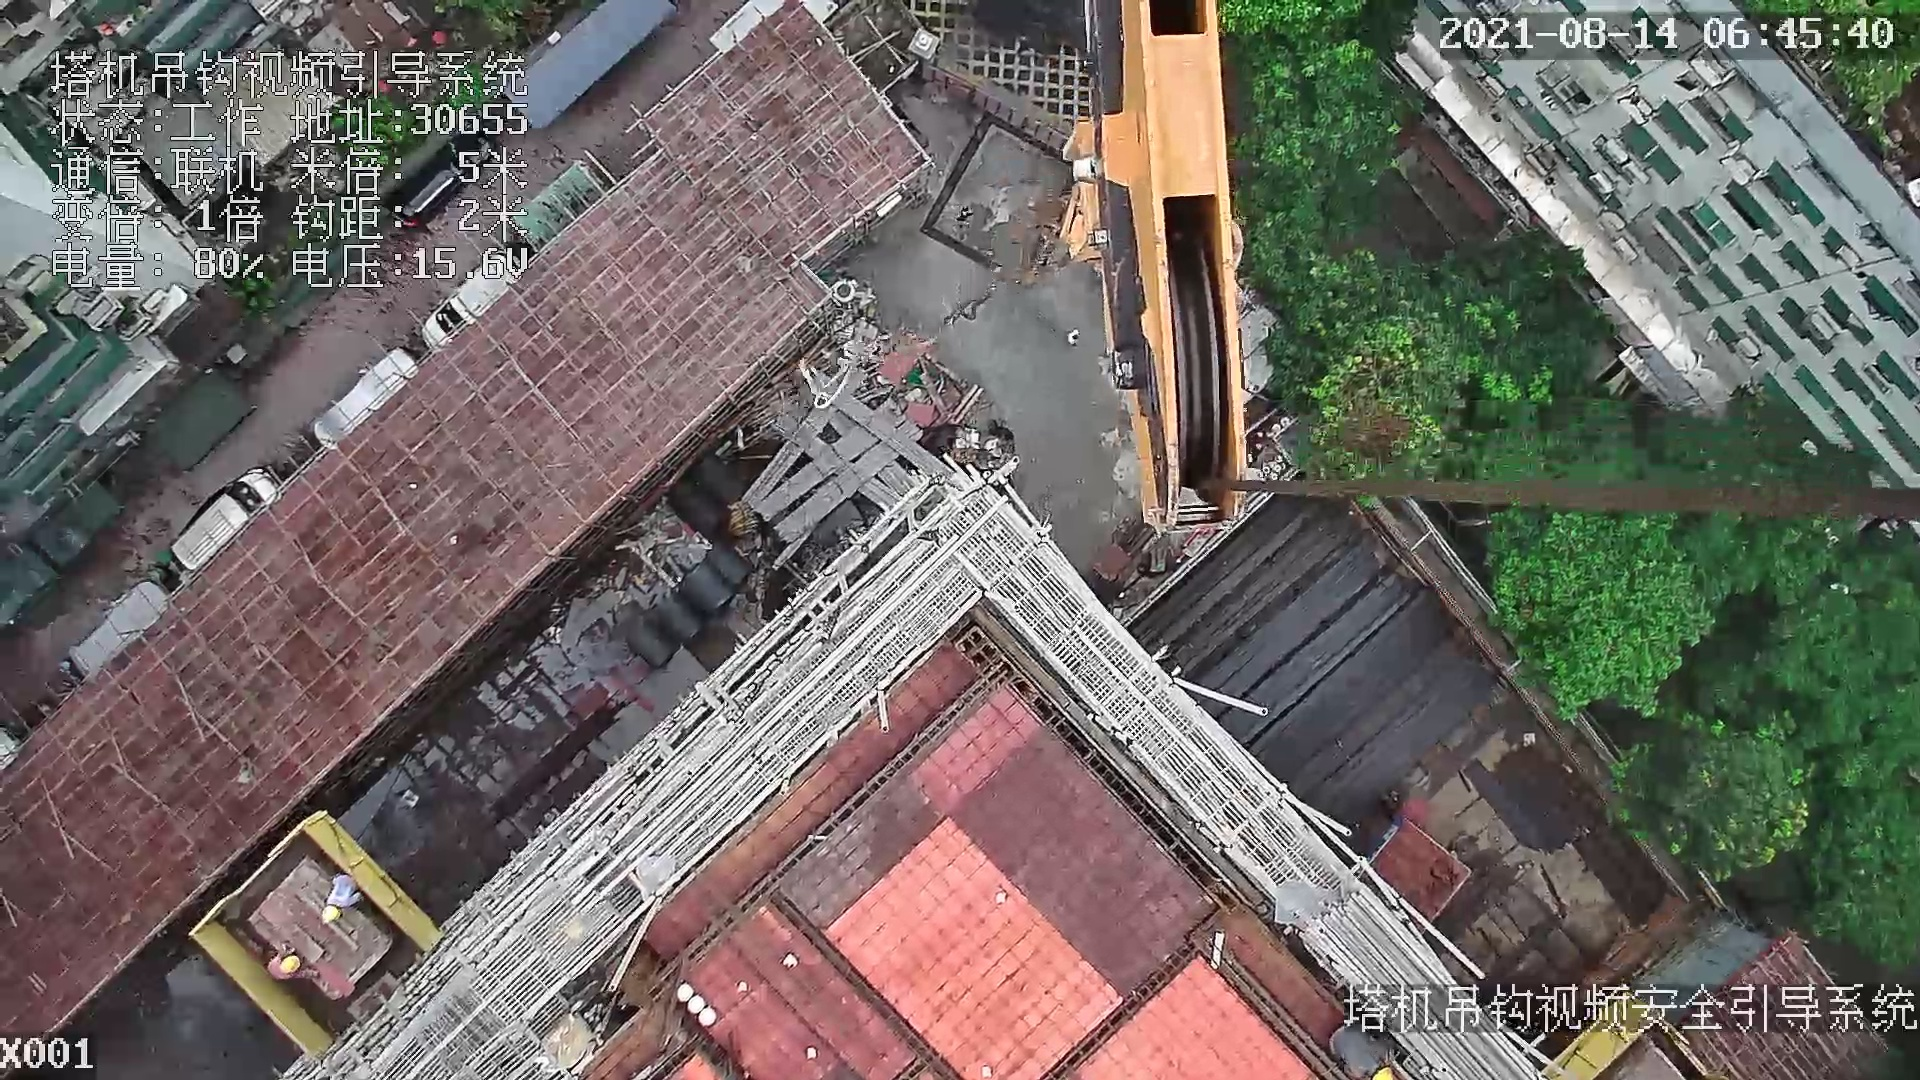helmet: (278, 950, 301, 971), (321, 905, 344, 924)
hook: (1046, 1, 1253, 521)
person: (265, 942, 324, 983), (322, 872, 360, 927), (954, 206, 975, 229), (1066, 327, 1079, 348)
